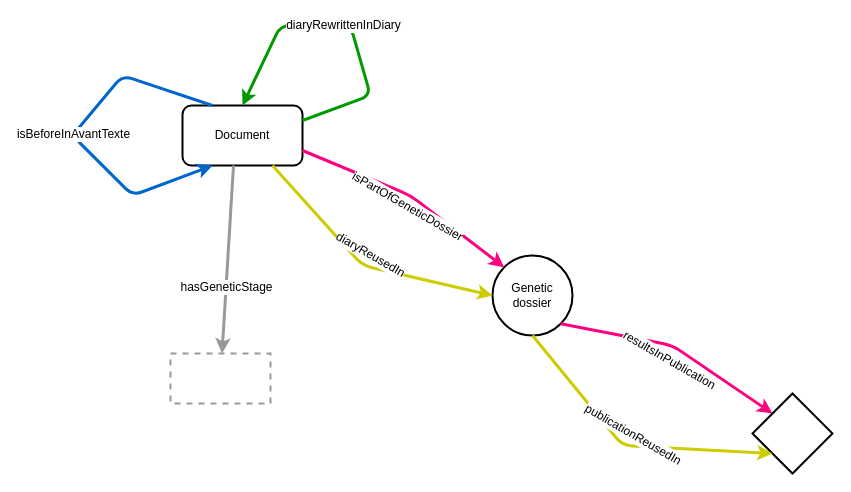
The diagram is 851 pixels wide and 492 high, and some of its shapes have lost their labels. The shapes that lost their labels are listed below. From the top down, each one's box as (x1, y1, x2, y2) in pixels, then its label:
(169, 352, 271, 404): List of genetic stages
(751, 392, 833, 474): Publication
